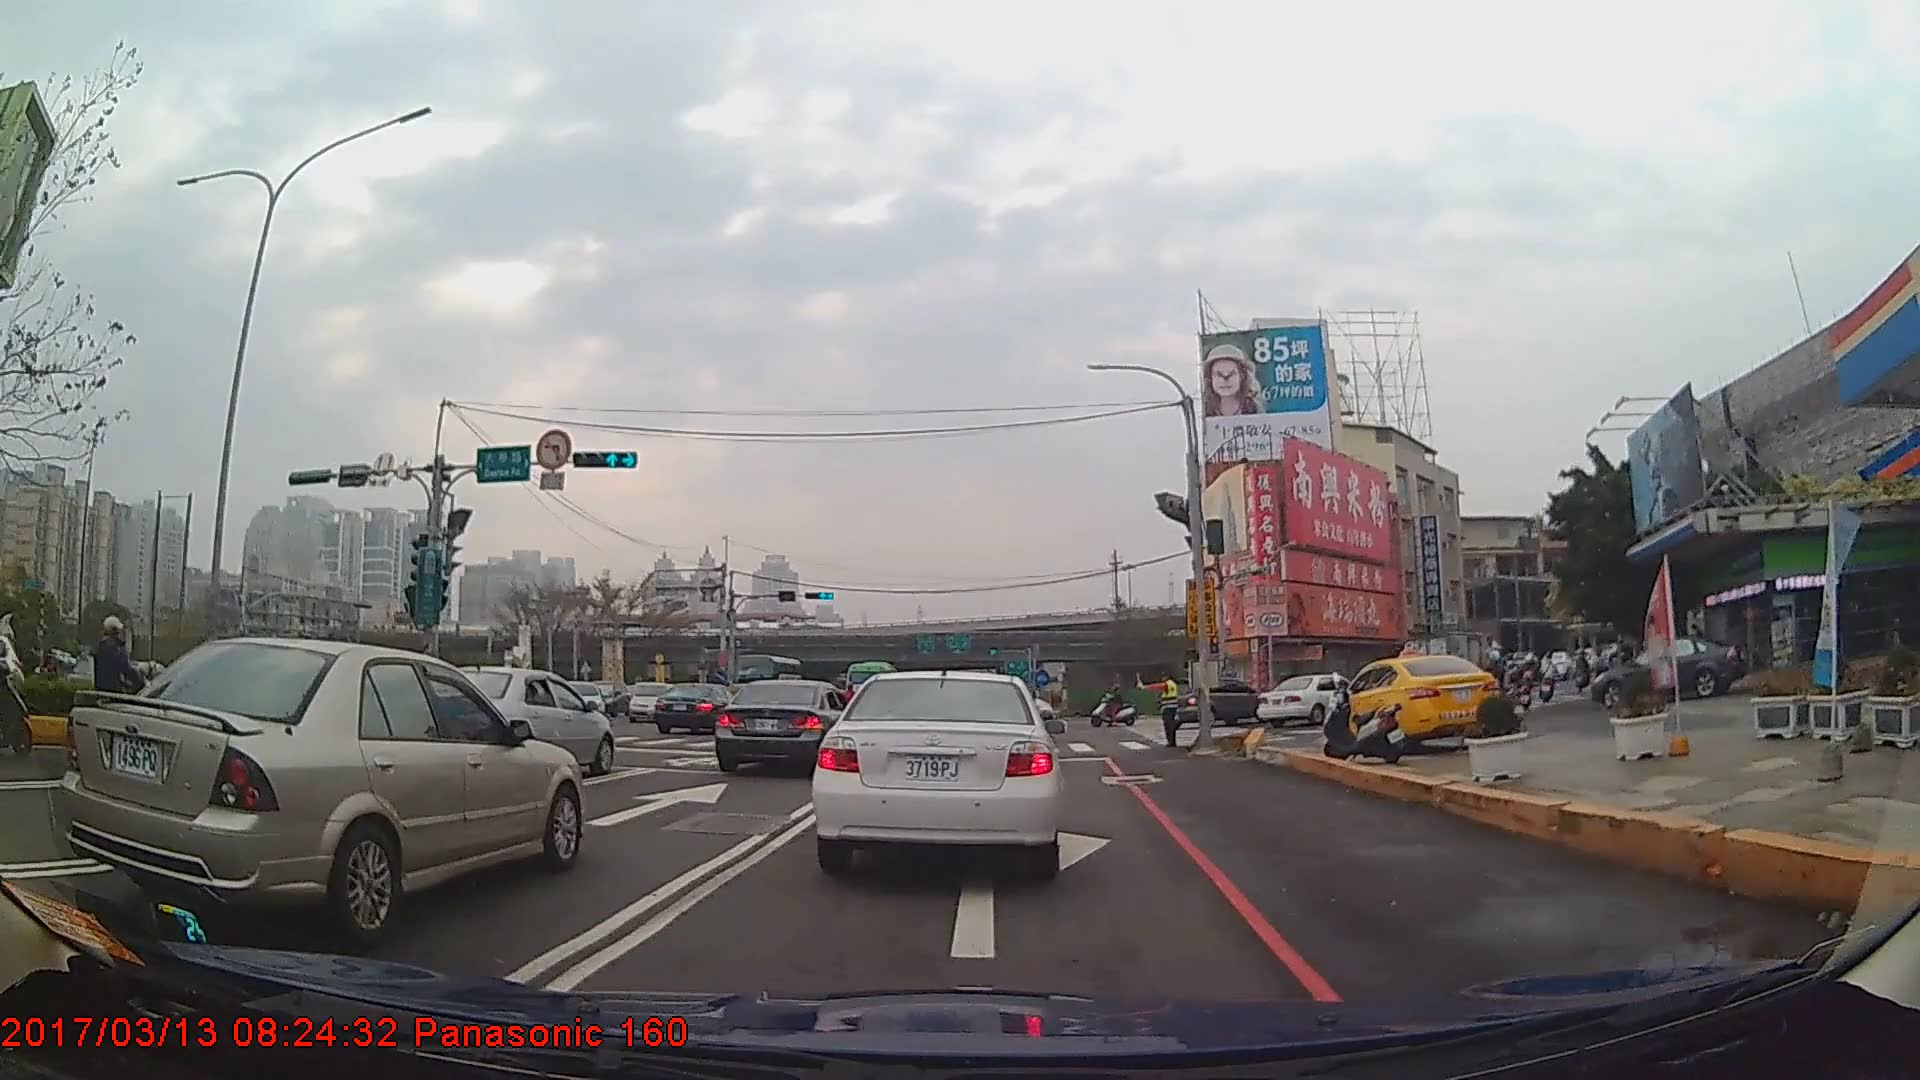pedestrian: (1132, 672, 1182, 749)
rider: (75, 617, 167, 774), (1, 603, 39, 762), (1477, 650, 1520, 733), (1093, 684, 1137, 730), (1511, 649, 1538, 717)
vehicle: (70, 631, 585, 932), (817, 663, 1058, 874), (419, 665, 615, 774), (1323, 650, 1504, 753), (713, 674, 857, 773), (1591, 631, 1747, 708), (1398, 630, 1510, 696), (1156, 674, 1271, 729), (1257, 673, 1363, 727), (655, 679, 747, 733), (842, 659, 898, 712), (627, 679, 670, 723)
